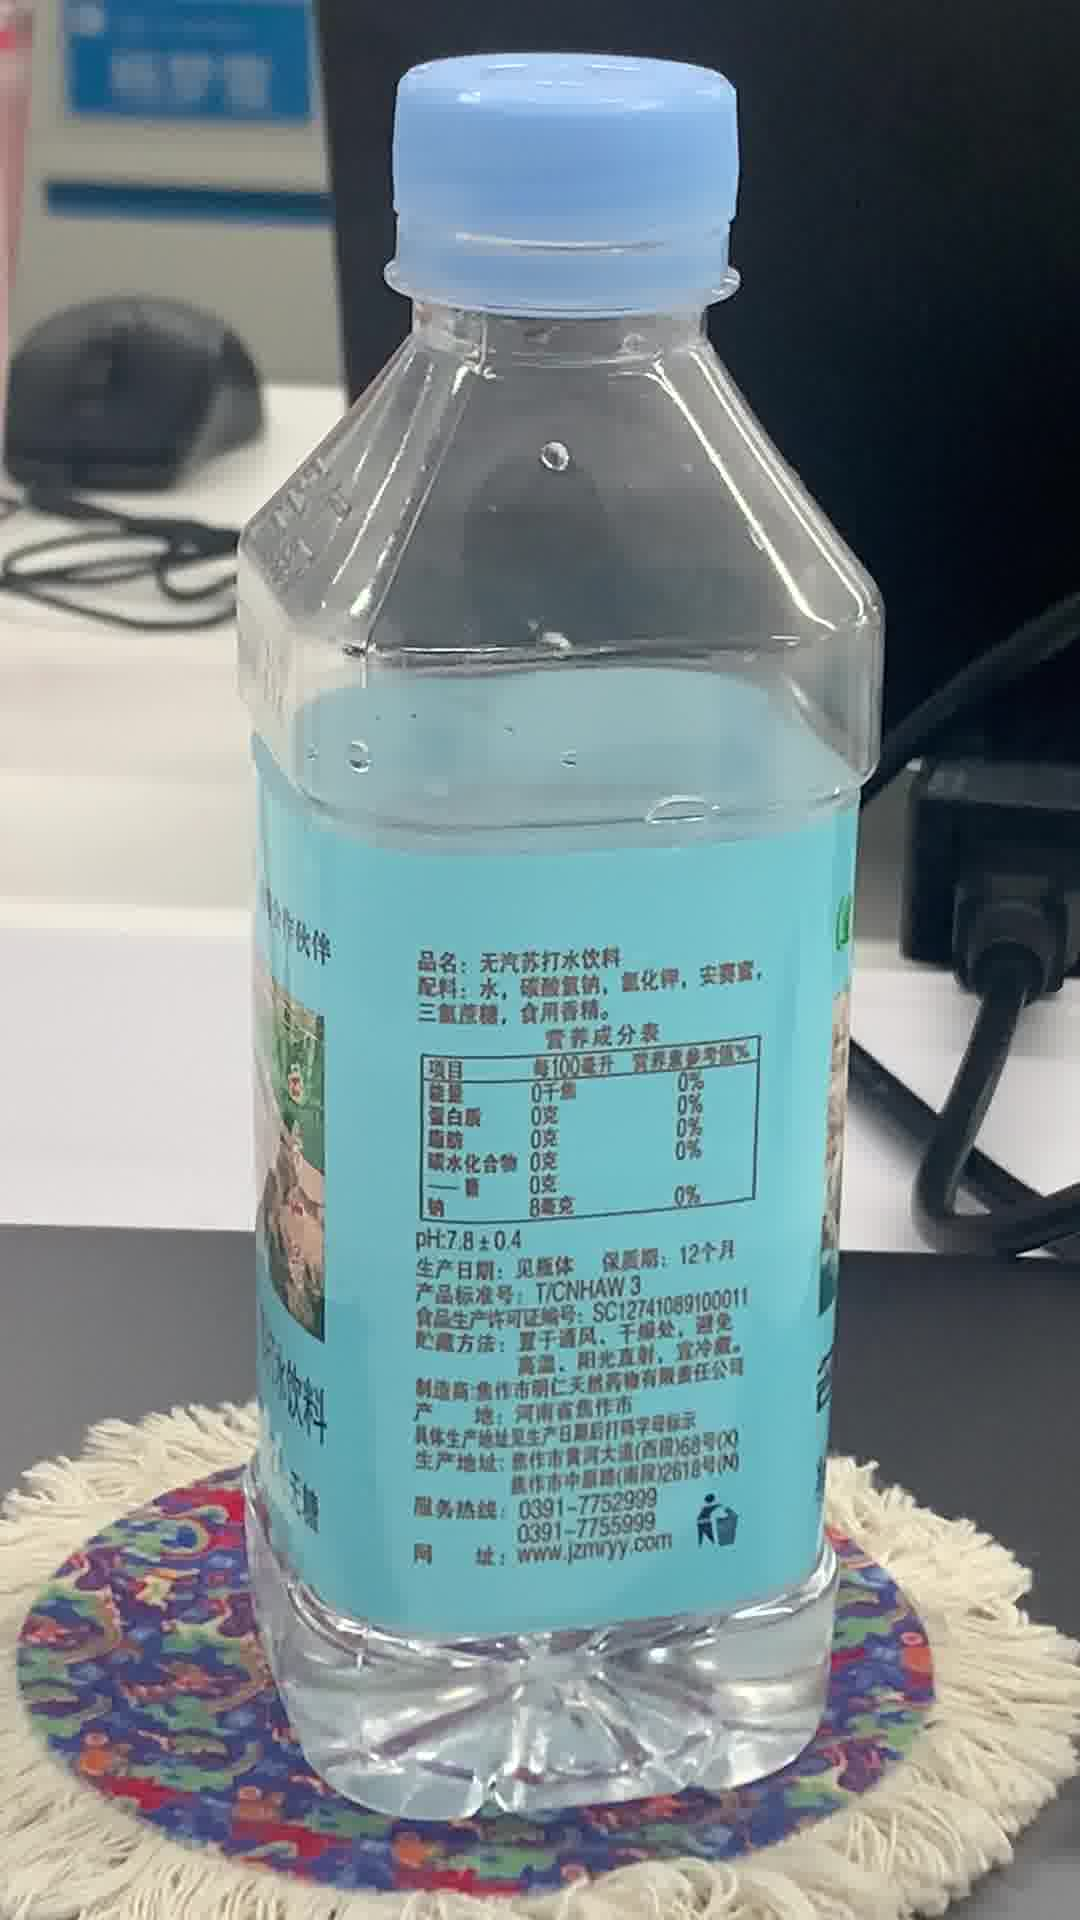水瓶: (232, 42, 855, 1725)
